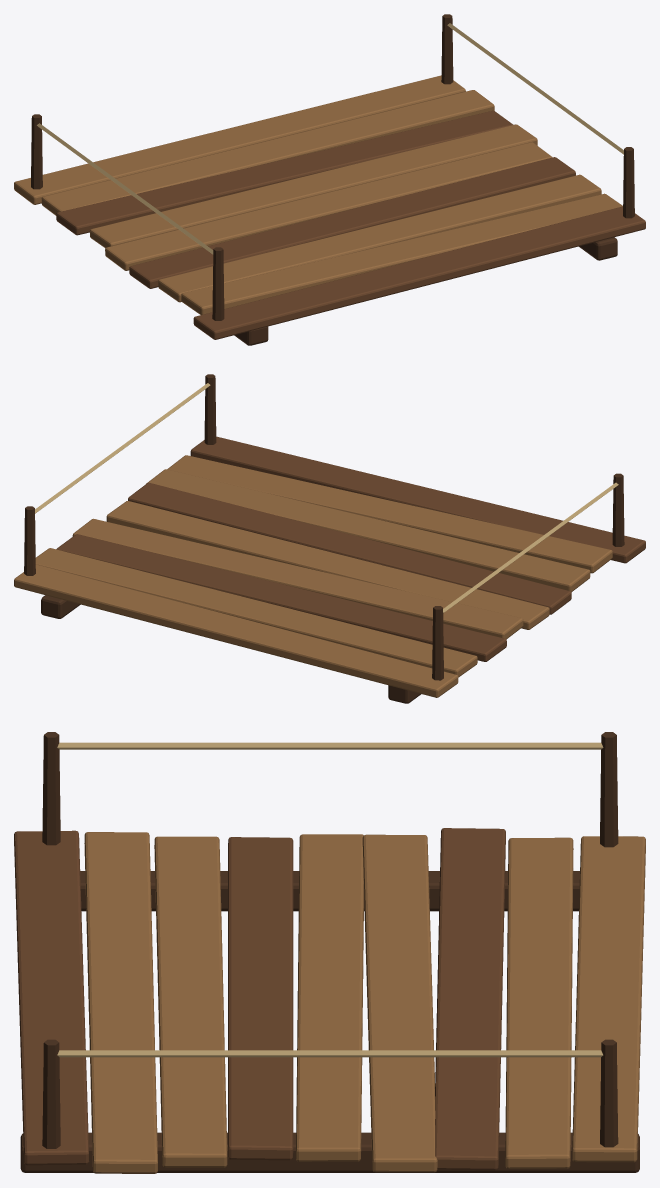
File: pont.glb
3 views of the same model, one above another, from view 1: azimuth 30°, elevation 25°; view 2: azimuth 150°, elevation 25°; view 3: azimuth 270°, elevation 25° (orthographic). The views are drawn at different scales.
Parts seen in each view (by area): view 1: pont; view 2: pont; view 3: pont.
Boxes of the visible parts, bbox=[...] form: pont: bbox=[14, 14, 645, 345]; pont: bbox=[14, 374, 645, 703]; pont: bbox=[14, 732, 645, 1173].
Size of the model in its own units: 5.05 by 1.05 by 4.08.
